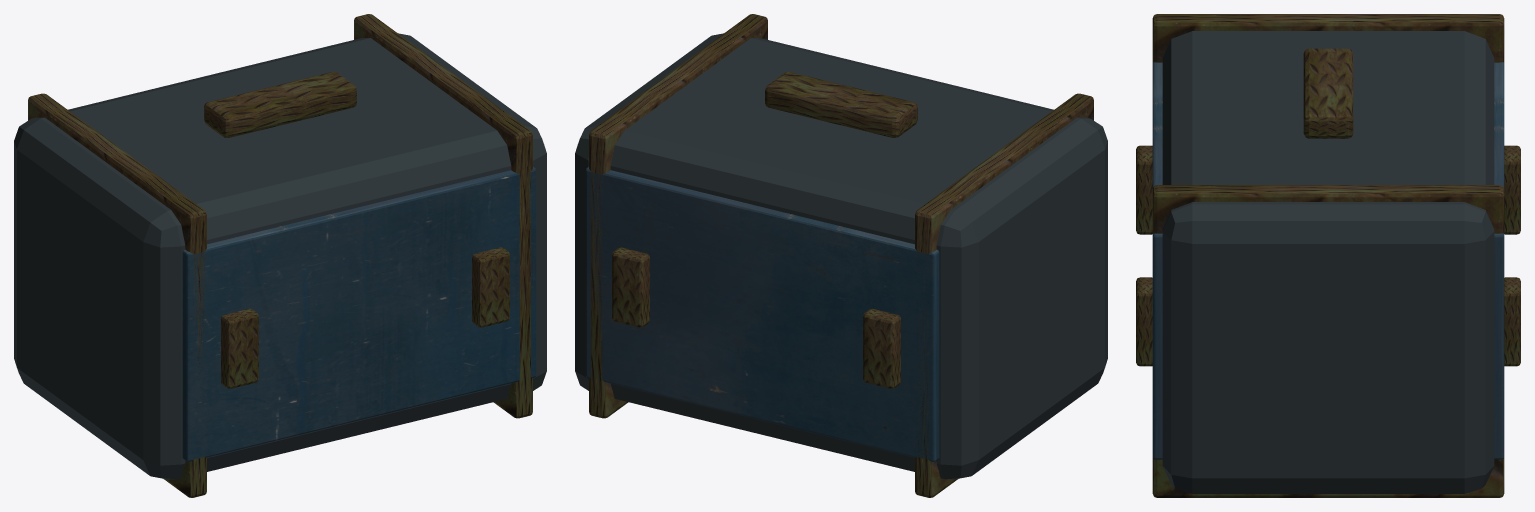
The model's file is FieldCase.fbx.
3 views of the same model, side by side, from view 1: azimuth 30°, elevation 25°; view 2: azimuth 150°, elevation 25°; view 3: azimuth 270°, elevation 25° (orthographic). The views are drawn at different scales.
Visible parts, largest first — view 1: FieldCase.001; view 2: FieldCase.001; view 3: FieldCase.001.
Part boxes in pixels (left/top/right/bottom): FieldCase.001: left=14, top=14, right=546, bottom=497; FieldCase.001: left=575, top=14, right=1107, bottom=497; FieldCase.001: left=1136, top=14, right=1520, bottom=497.
Size of the model in its own units: 1.5 by 1.16 by 1.09.
